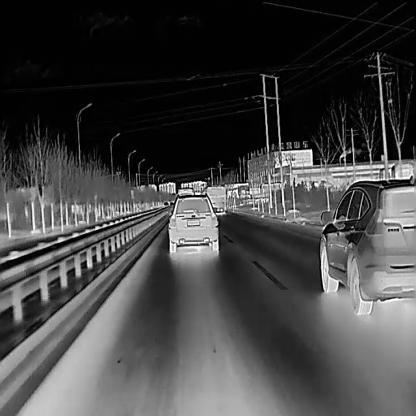car: (318, 173, 415, 315), (166, 190, 218, 252), (250, 181, 283, 204), (204, 185, 226, 216)
